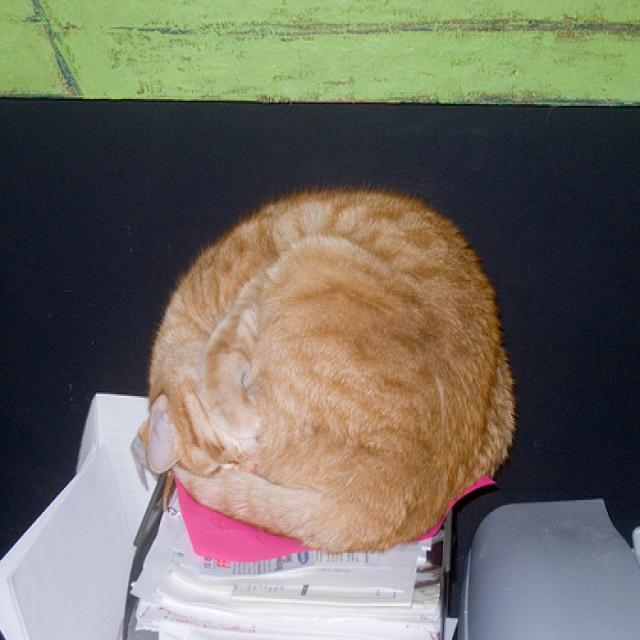cat: (147, 184, 519, 556)
